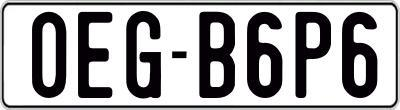0: (31, 10, 69, 102)
6: (342, 11, 379, 99), (244, 12, 279, 103)
B: (196, 10, 234, 100)
E: (78, 11, 117, 102)
G: (126, 9, 161, 99)
P: (295, 12, 331, 102)
